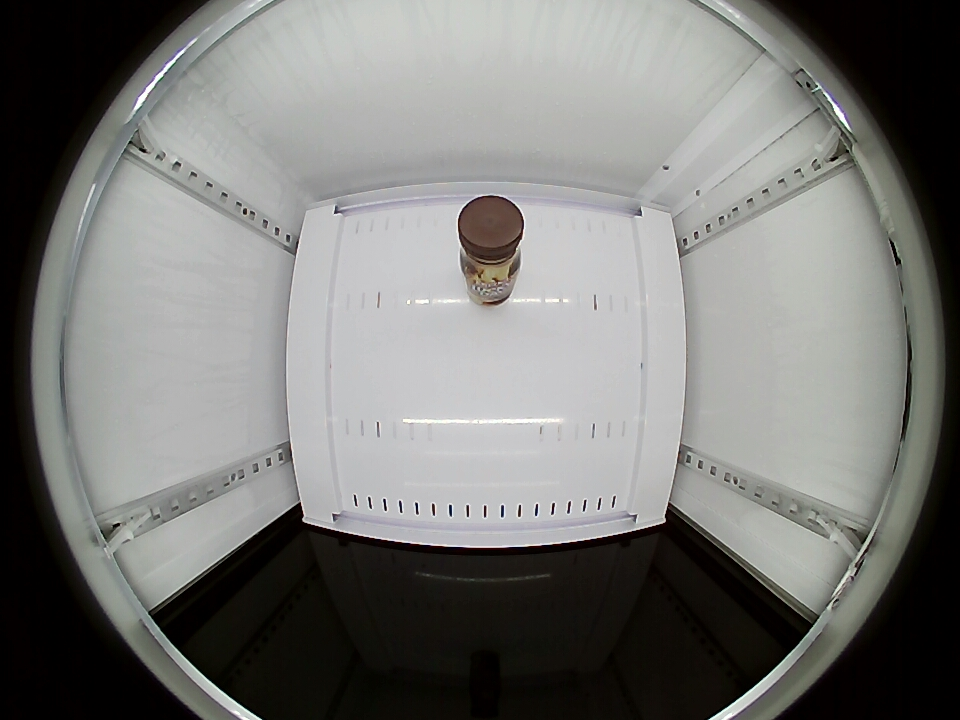lujikafei: (457, 195, 525, 290)
